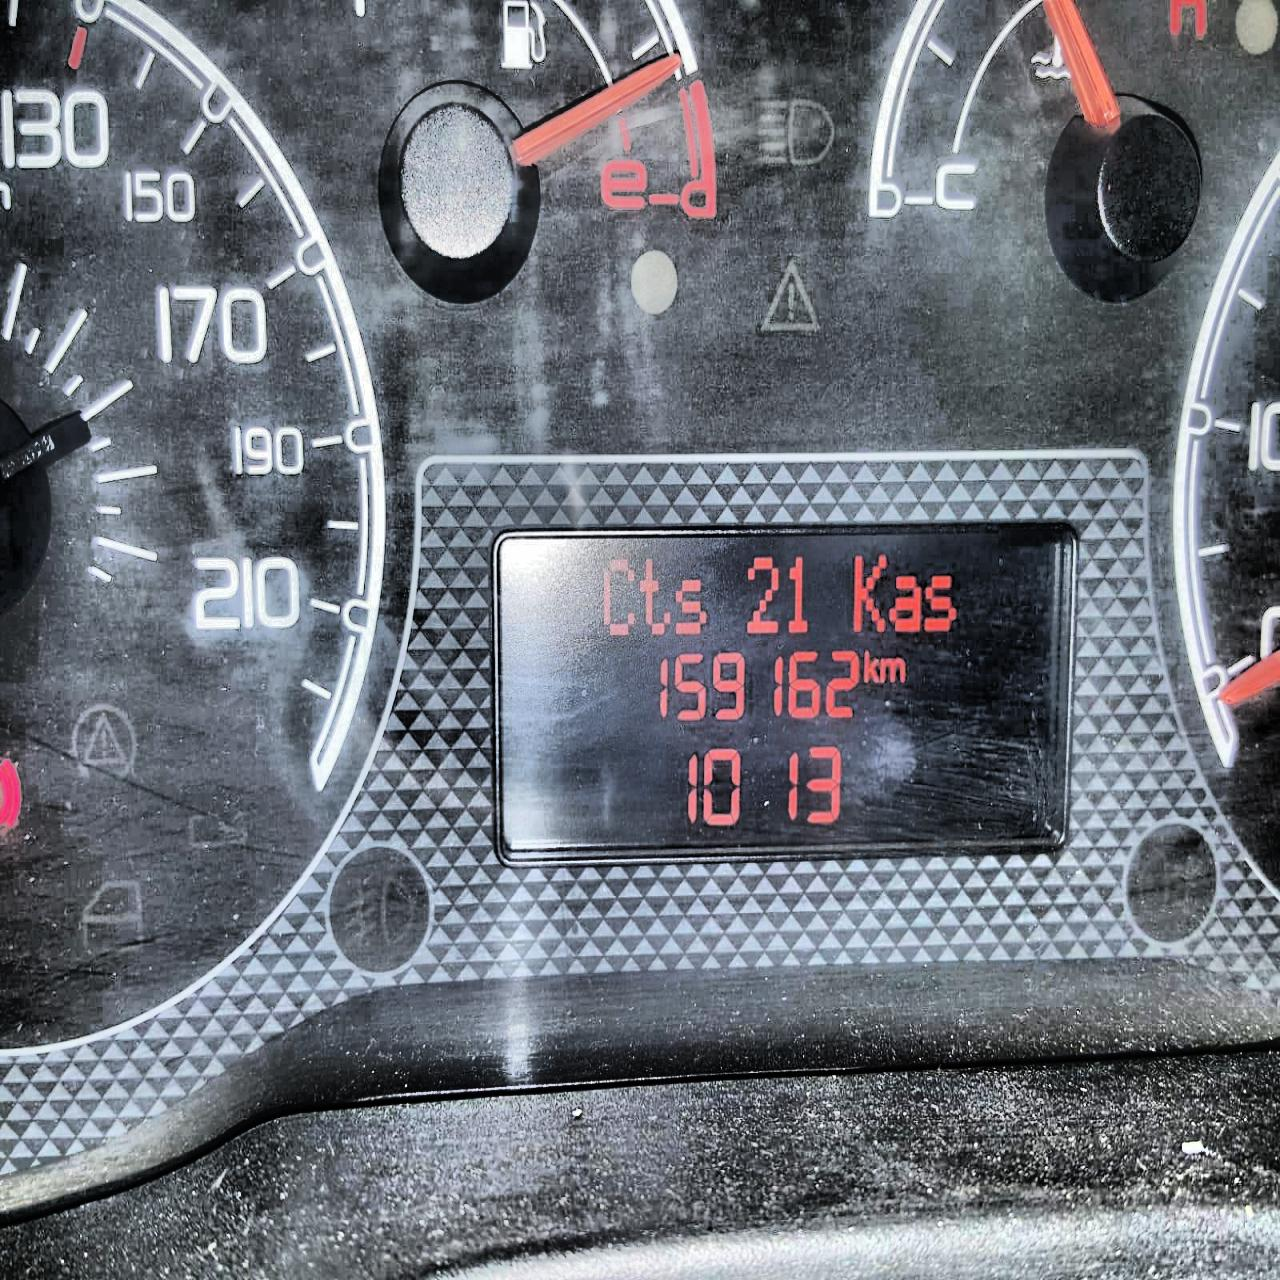0: (701, 747, 741, 826)
1: (787, 553, 809, 633), (685, 750, 700, 825), (785, 749, 799, 822), (656, 655, 669, 719), (771, 654, 783, 719)
2: (743, 554, 779, 635), (824, 648, 859, 717)
3: (803, 744, 840, 824)
5: (672, 651, 707, 723)
6: (787, 649, 821, 720)
9: (712, 651, 744, 721)
X: (851, 552, 887, 633), (601, 557, 636, 636), (638, 557, 672, 636), (670, 577, 708, 635), (887, 573, 921, 632), (922, 573, 955, 631), (878, 658, 906, 682), (862, 649, 878, 682)
odometer: (488, 511, 1078, 871)
